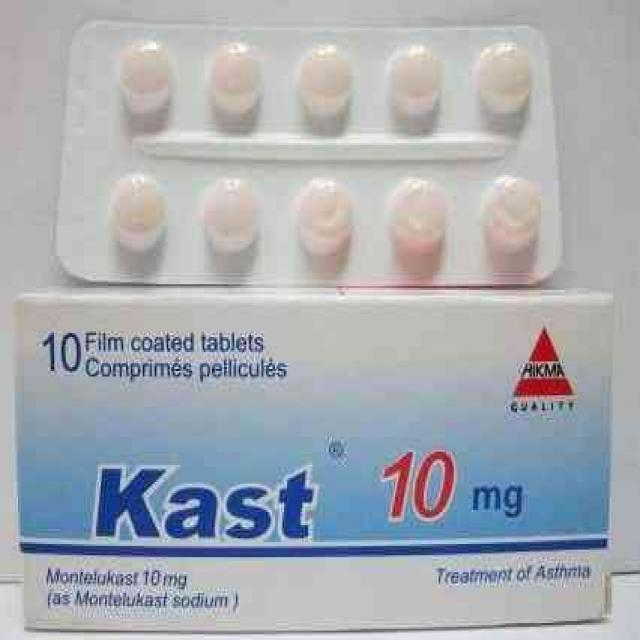drug-name: (96, 461, 322, 542)
